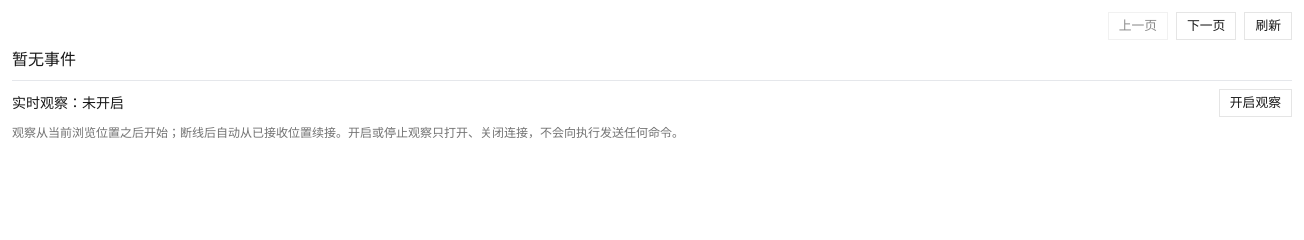
Test case: RunEventsPanel pagination boundaries › uses has_more rather than an empty event list to allow the next page
Check: the text "暂无事件" is shown, box [12,51,76,68]
Click the button "下一页" at (1206, 26), box [1176,12,1236,40]
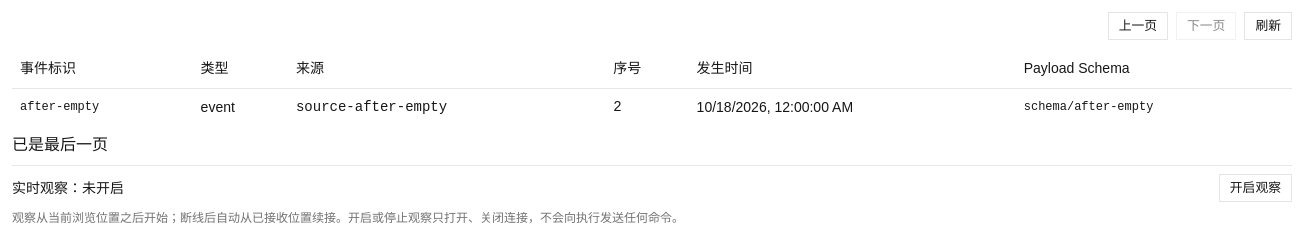
Check: the text "after-empty" is shown, box [12,88,193,124]
